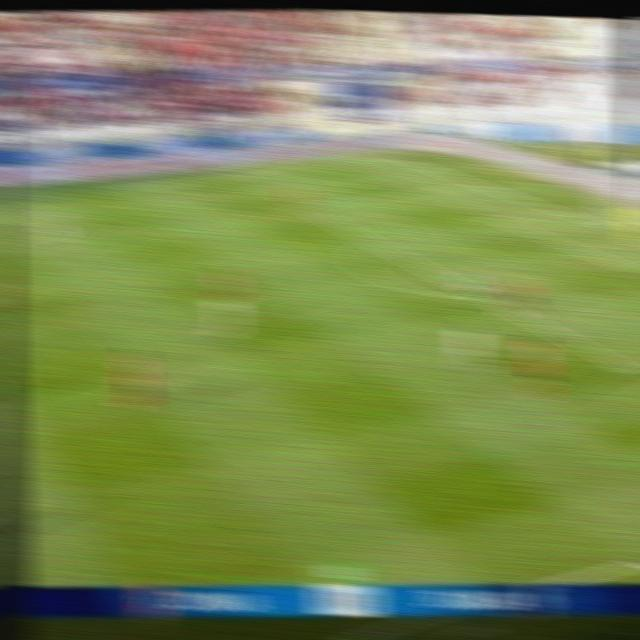bigarea_bottom_inner: (616, 353, 640, 384)
bigarea_top_inner: (292, 197, 321, 215)
bigarea_top_outter: (467, 175, 496, 191)
bottom_arc_area_intersection: (466, 286, 497, 305)
corner: (390, 151, 420, 164)
smallarea_top_inner: (486, 210, 517, 225)
smallarea_top_outter: (544, 200, 574, 217)
top_arc_area_intersection: (360, 232, 391, 250)
